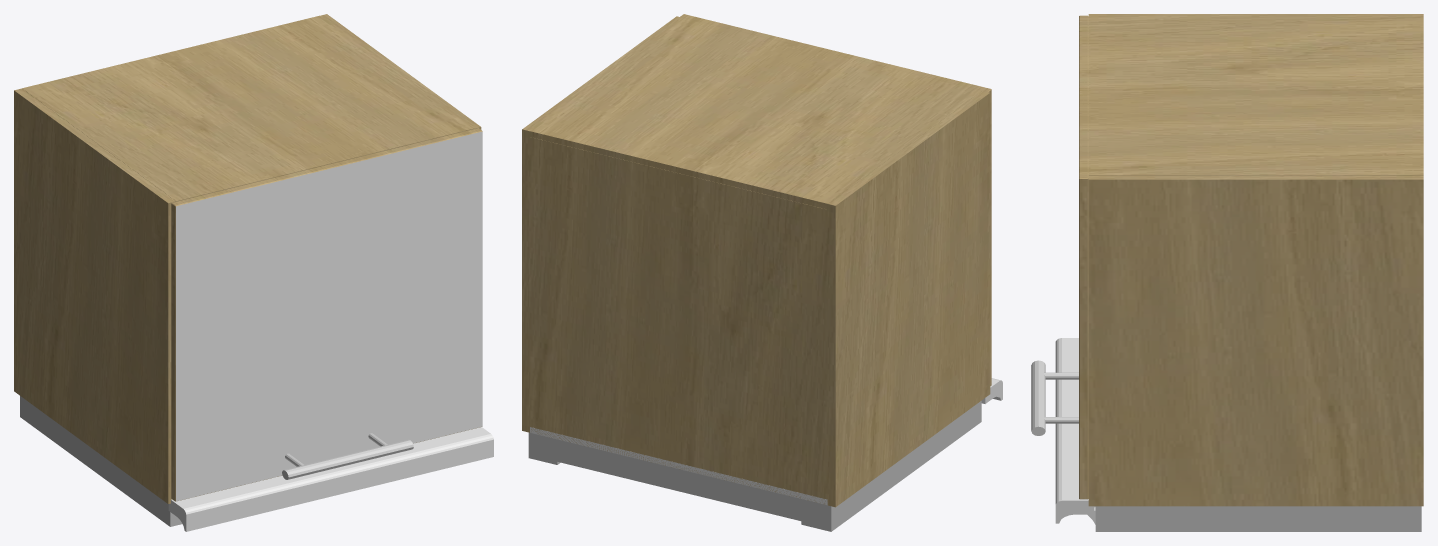
File: sh-bs0-small-upper-cabinet.glb
3 renders of one model, left to right at view 1: azimuth 30°, elevation 25°; view 2: azimuth 150°, elevation 25°; view 3: azimuth 270°, elevation 25°, orthographic. The views are drawn at different scales.
Parts seen in each view (by area): view 1: Cube.009; view 2: Cube.009; view 3: Cube.009.
Part boxes in pixels (x1,y1,x2,y2): Cube.009: (14,14,493,531); Cube.009: (522,14,1002,531); Cube.009: (1031,14,1423,531).
Size of the model in its own units: 1 by 1 by 1.
Materials: 6 (1 with a texture image).
